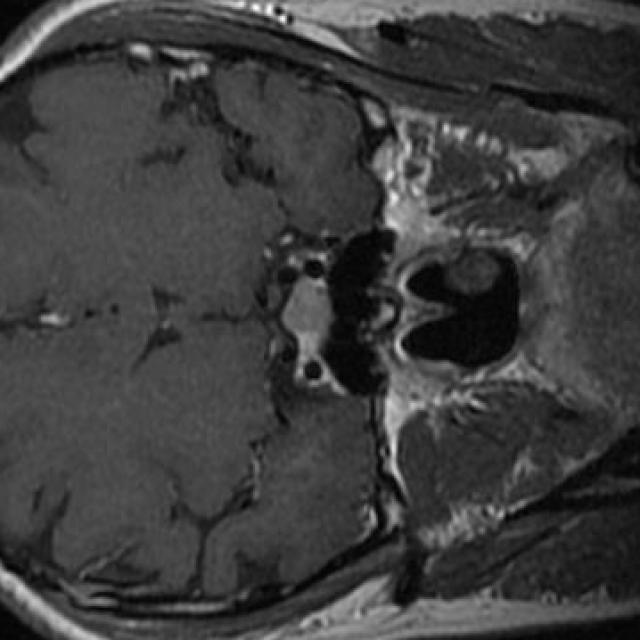pituitary: (280, 276, 333, 351)
